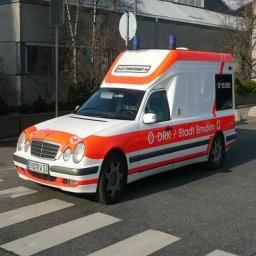ambulance: (14, 49, 235, 203)
